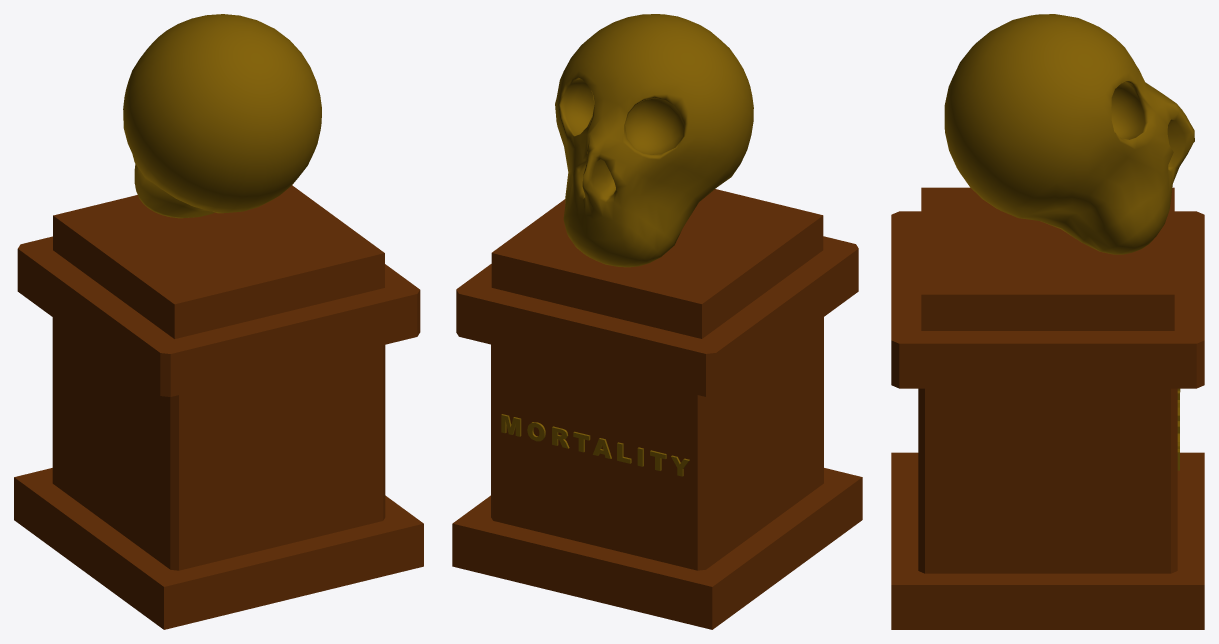
The model's file is mesh_Weight_Mortality.fbx.
3 views of the same model, side by side, from view 1: azimuth 30°, elevation 25°; view 2: azimuth 150°, elevation 25°; view 3: azimuth 270°, elevation 25° (orthographic). The views are drawn at different scales.
Parts seen in each view (by area): view 1: model_Weight_Mortality; view 2: model_Weight_Mortality; view 3: model_Weight_Mortality.
Part boxes in pixels (x1=…): model_Weight_Mortality: x1=14, y1=14, x2=423, y2=629; model_Weight_Mortality: x1=452, y1=14, x2=862, y2=629; model_Weight_Mortality: x1=891, y1=14, x2=1204, y2=629.
Bounding box in the file's own units: 3.77 × 7.2 × 3.77.
